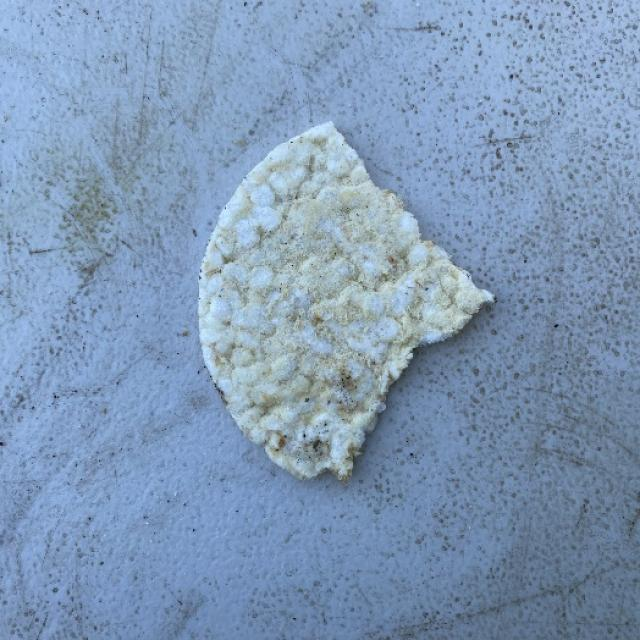organic: (190, 124, 496, 476)
